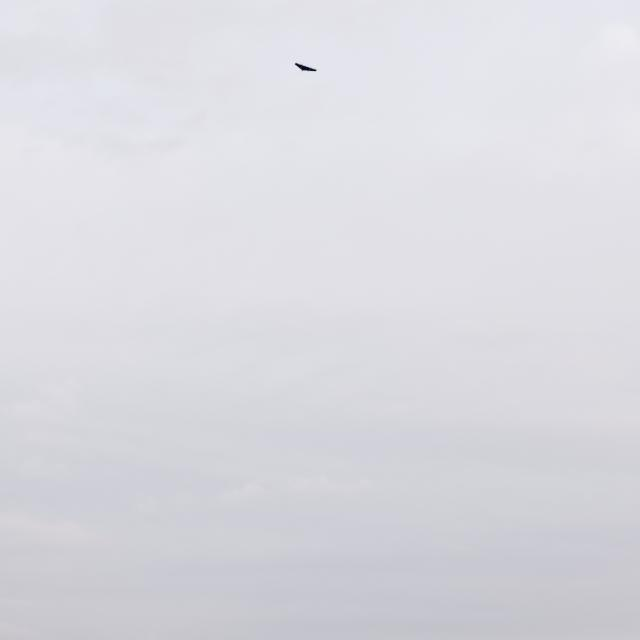Airaplan: (294, 62, 317, 73)
